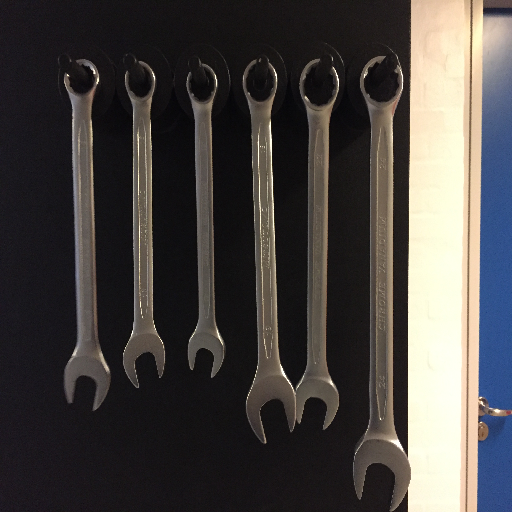bottom: (349, 431, 415, 512), (244, 370, 297, 446), (61, 344, 112, 414), (290, 372, 340, 432), (120, 330, 167, 389), (186, 325, 226, 378)
top: (357, 54, 406, 115), (296, 55, 341, 115), (240, 57, 280, 110), (62, 58, 102, 101), (184, 61, 220, 106), (123, 59, 158, 105)
